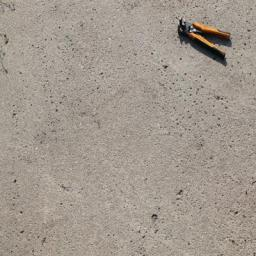FOD: (173, 14, 236, 66)
